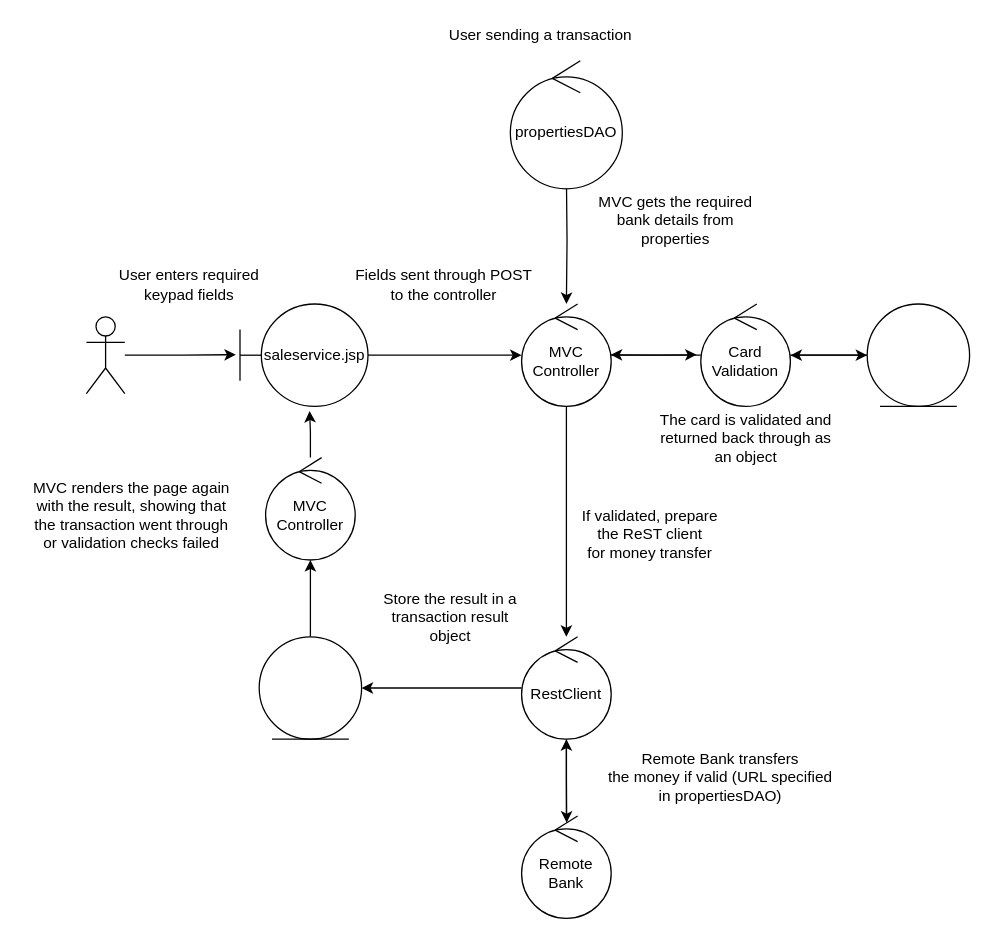
Some shapes in this 992 by 941 pixel diagram are drawn without their labels. The box of each missing label's shape, as (x1, y1, x2, y2) in pixels:
CreditCard object: (866, 303, 970, 406)
Transaction Result: (258, 636, 362, 739)
User: (85, 316, 125, 394)
